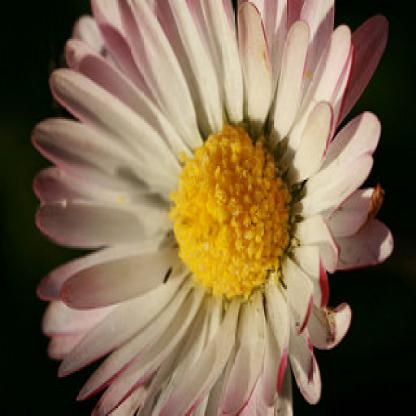ASTER: (21, 5, 402, 413)
